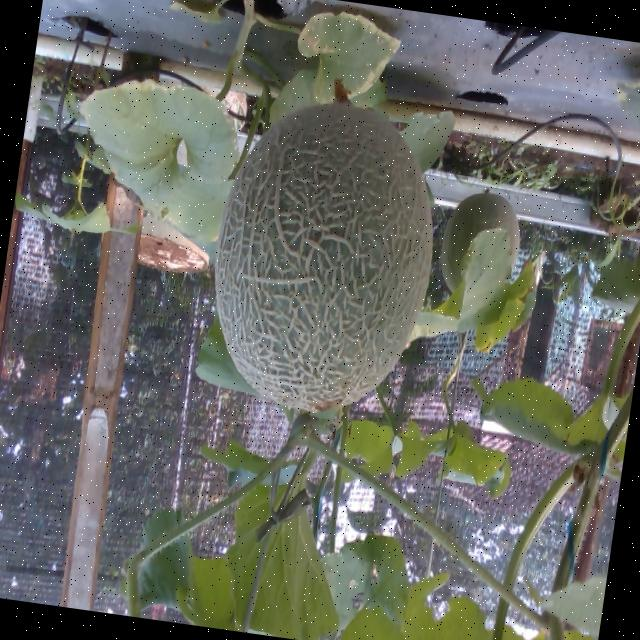melon: (213, 102, 430, 411)
